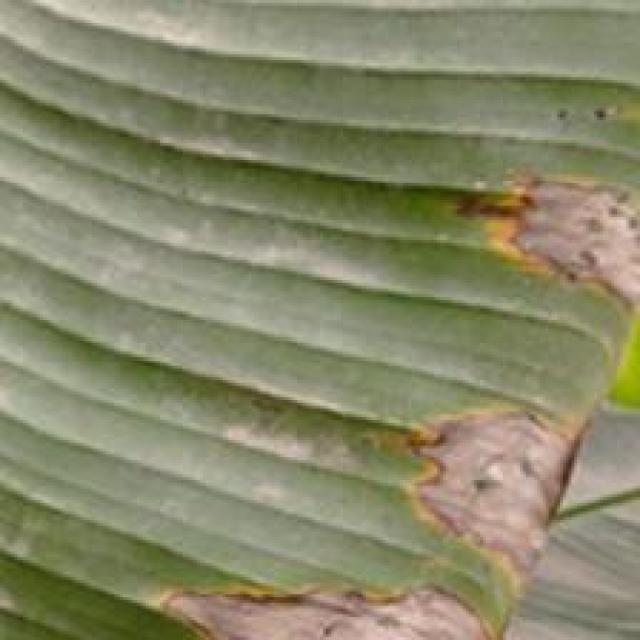Bacterial_spot: (378, 388, 594, 586), (445, 157, 640, 302), (141, 565, 514, 640)
